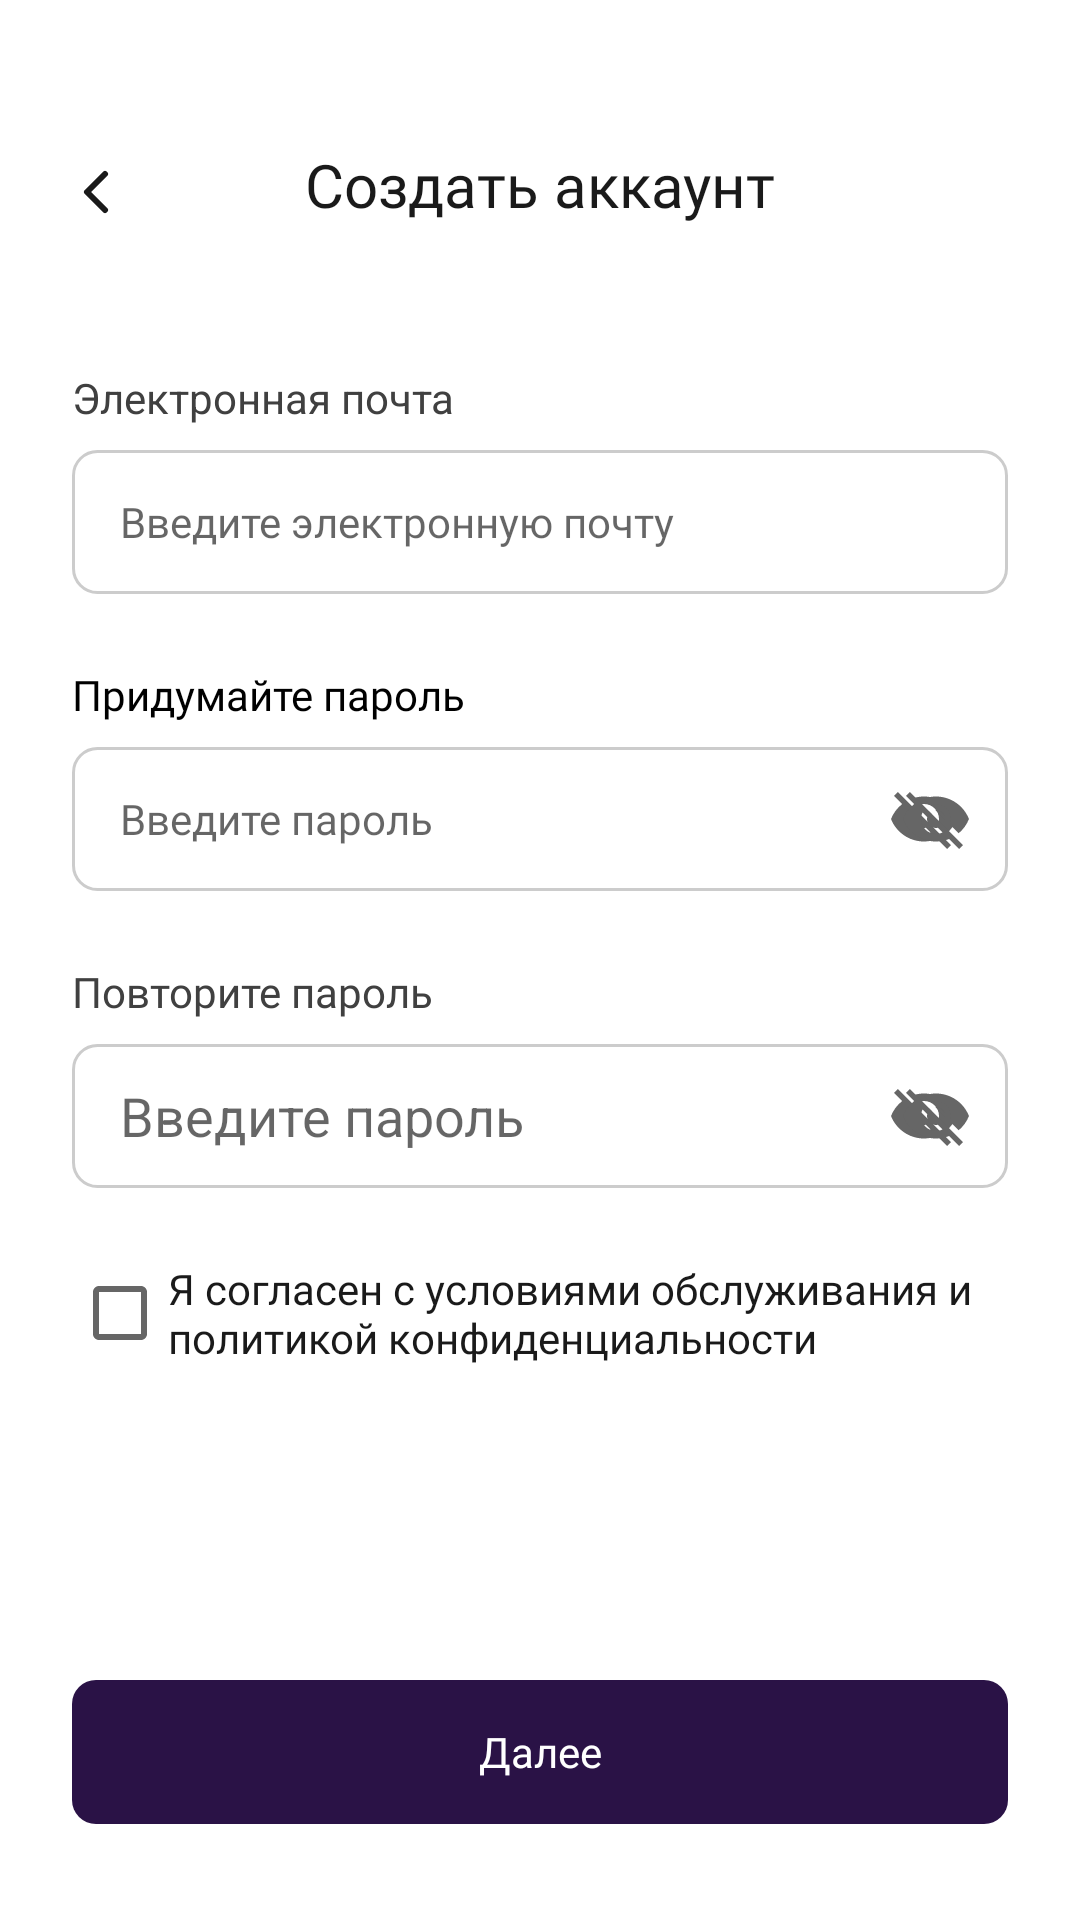

Icons on this 1080x1920 Android screen, each with the point to tap as [x,y]:
chevron left: [96,192]
eye off: [930,820], [930,1117]
